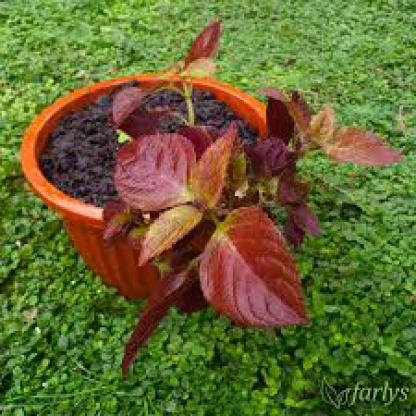Bunga Coleus: (99, 66, 358, 330)
